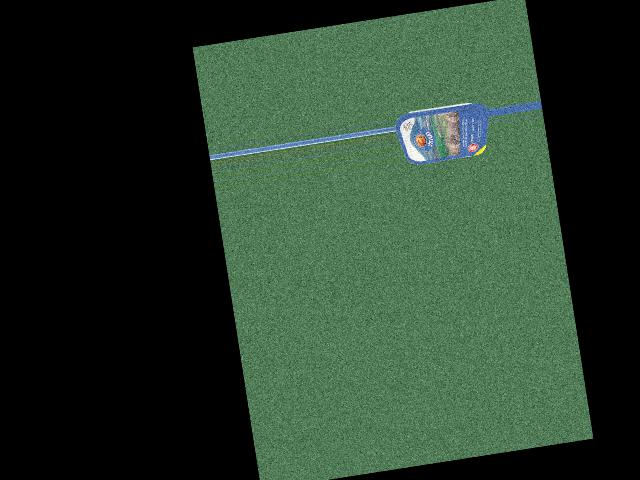cheese: (399, 94, 485, 168)
